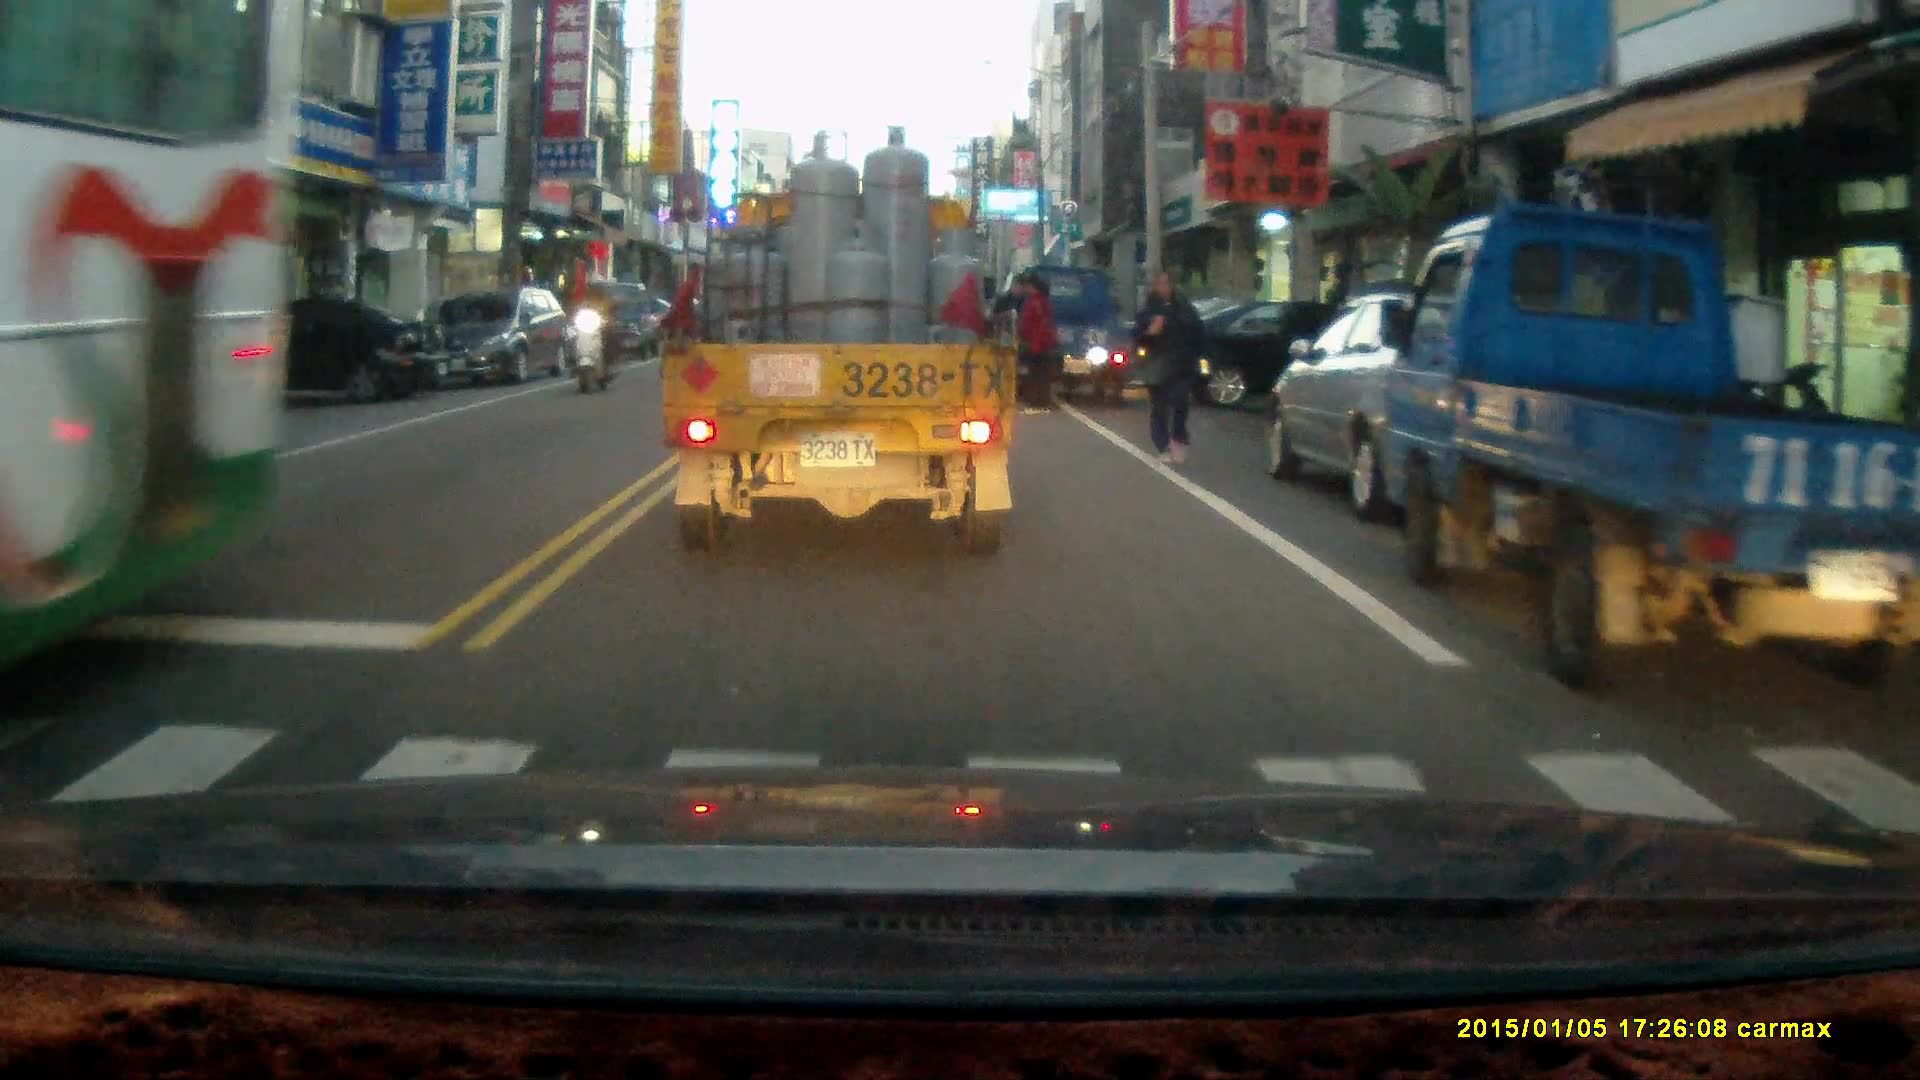pedestrian: (1131, 267, 1222, 464), (1017, 274, 1054, 410)
rider: (565, 267, 619, 391)
vehicle: (1377, 201, 1920, 693), (1, 2, 281, 660), (663, 123, 1021, 557), (1260, 285, 1586, 528), (1157, 294, 1427, 419), (1001, 261, 1145, 405), (431, 286, 573, 390), (578, 278, 674, 363)
